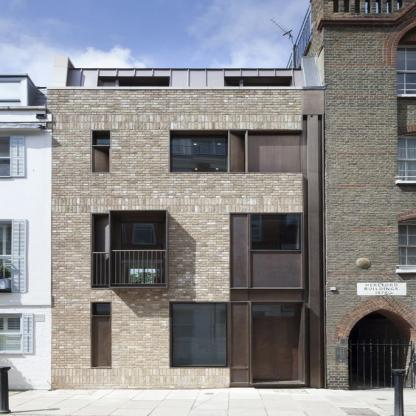Balcony: (47, 87, 325, 114), (92, 250, 166, 288)
Building Outline: (47, 55, 326, 390)
Door: (251, 316, 301, 380)
Facade: (47, 55, 326, 390)
Floor Slab: (51, 115, 302, 130), (52, 288, 325, 301), (52, 198, 303, 212)
Glass Wall: (173, 304, 227, 367)
Molding: (52, 198, 303, 212)
Roof: (49, 55, 322, 87)
Window: (110, 211, 166, 287), (95, 221, 227, 244), (99, 76, 170, 115), (224, 77, 294, 115), (248, 132, 302, 172), (171, 135, 227, 172), (251, 215, 302, 251), (92, 214, 109, 288), (93, 303, 112, 368), (92, 130, 112, 172), (251, 303, 301, 316)
